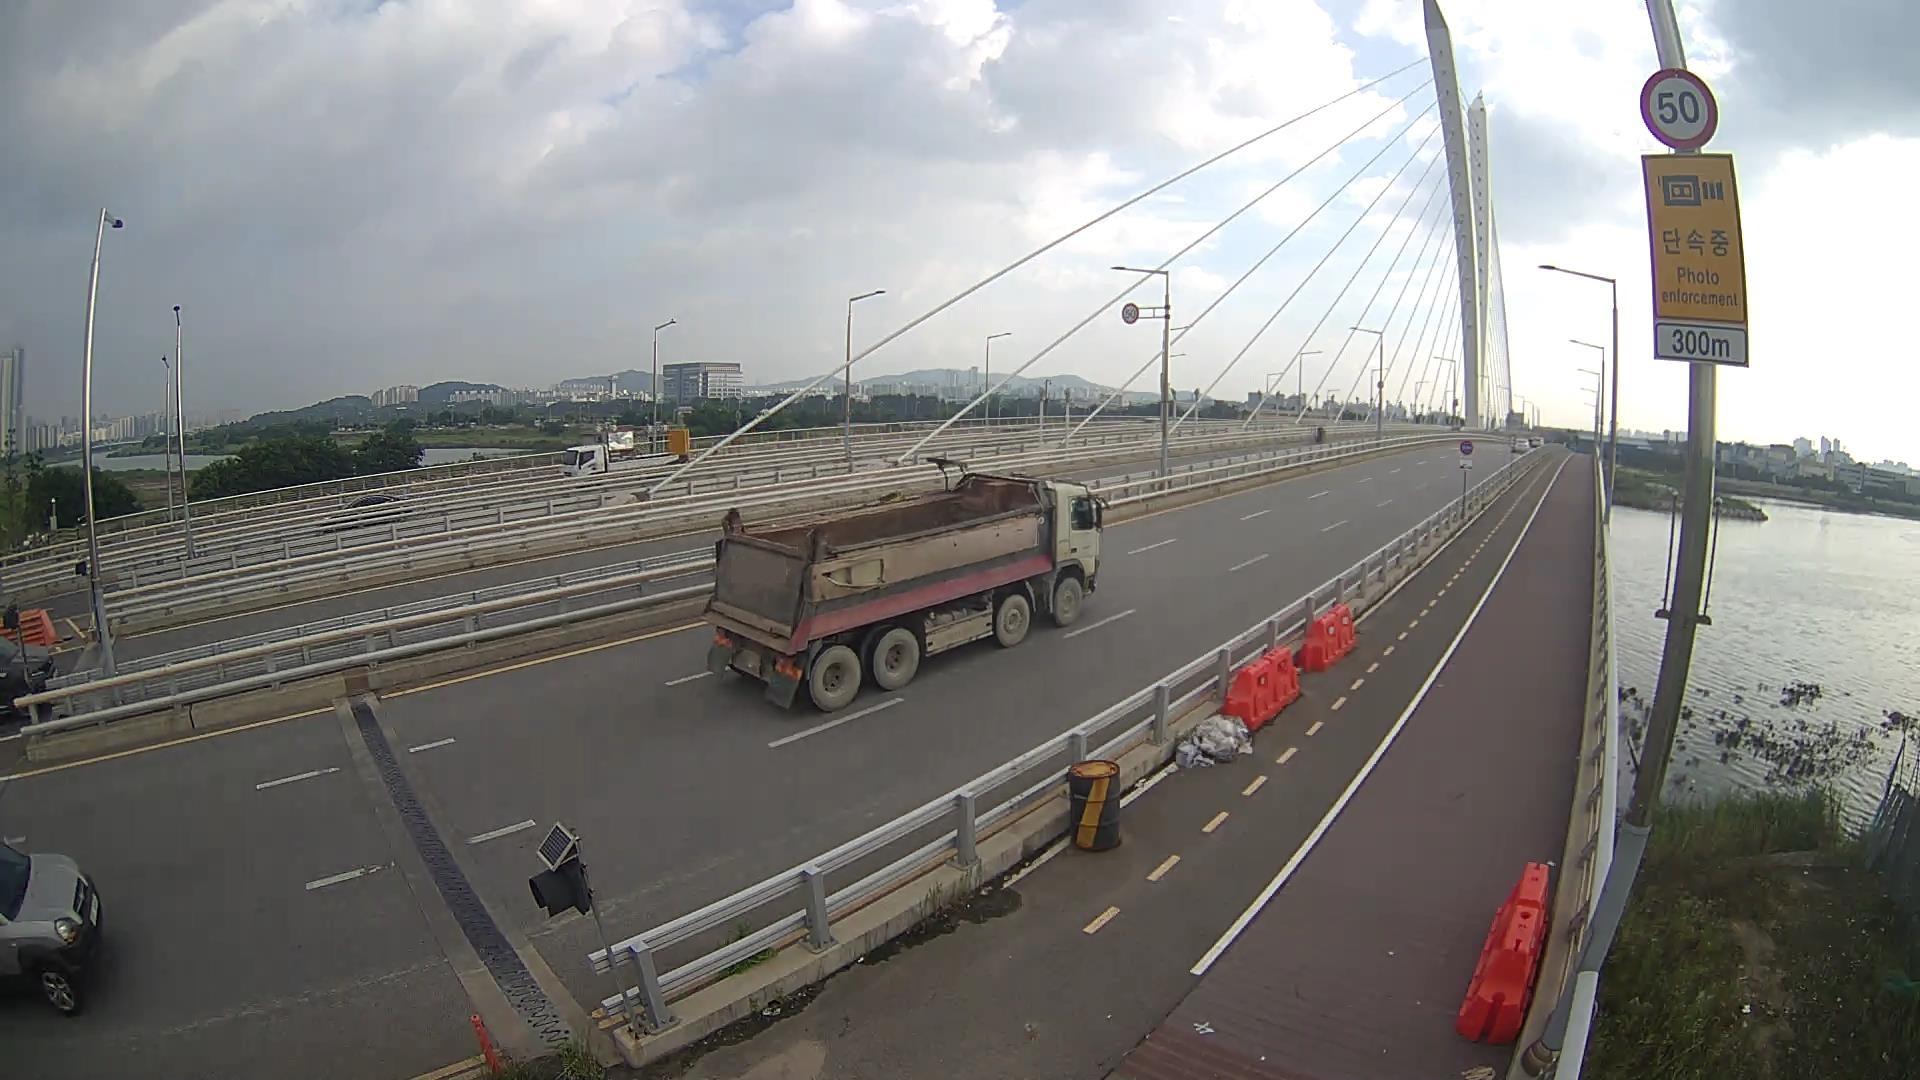정상차량: (700, 458, 1113, 713)
